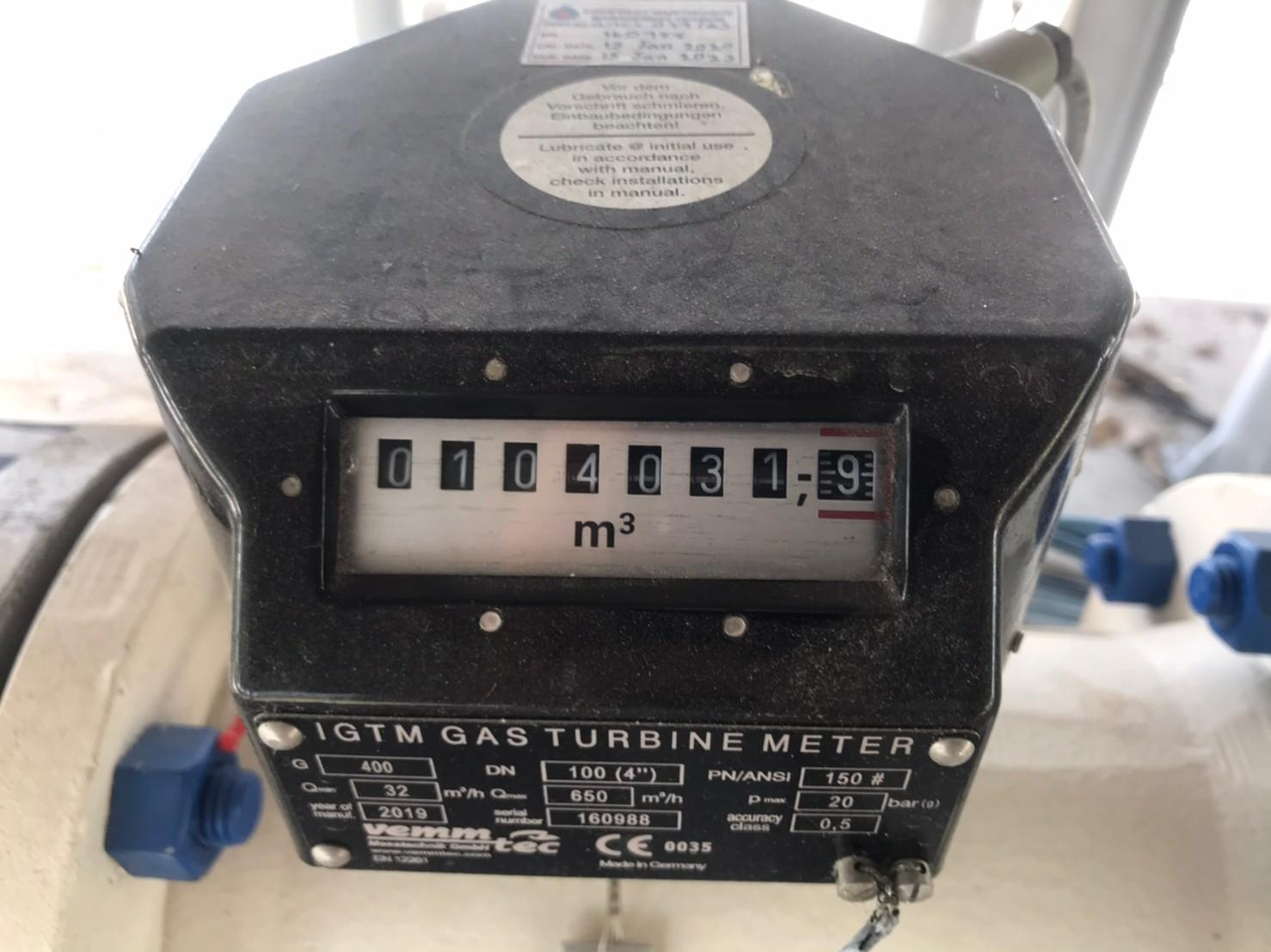analog_dial: (337, 414, 895, 582)
